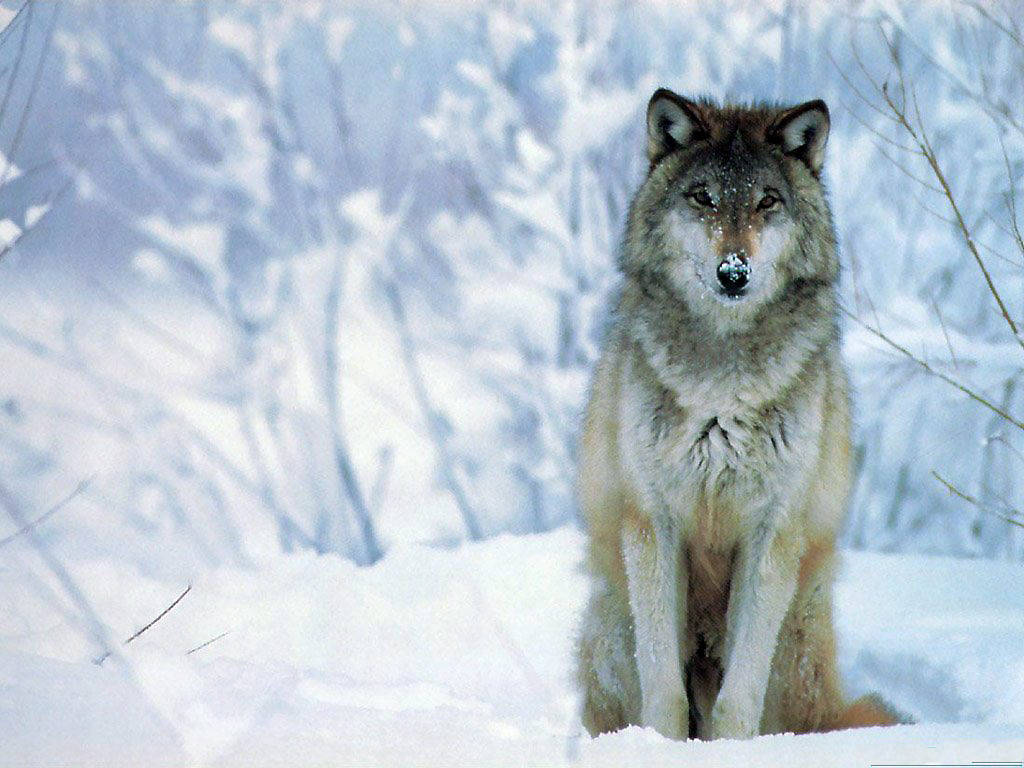Lobo: (543, 73, 887, 719)
